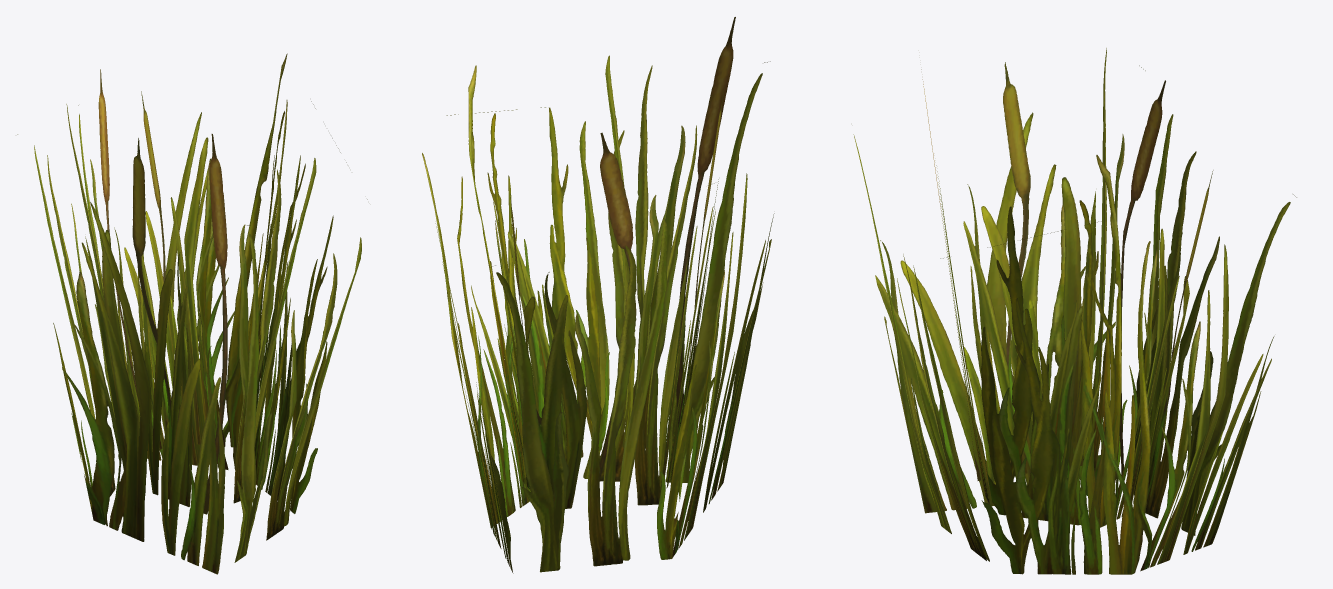
File: wetlandshrub06.obj
The picture shows the model from 3 angles, left to right: view 1: azimuth 30°, elevation 25°; view 2: azimuth 150°, elevation 25°; view 3: azimuth 270°, elevation 25°; orthographic projection. The views are drawn at different scales.
Parts seen in each view (by area): view 1: wetlandshrub06; view 2: wetlandshrub06; view 3: wetlandshrub06.
Part boxes in pixels (x1=…): wetlandshrub06: x1=17, y1=53, x2=367, y2=574; wetlandshrub06: x1=422, y1=17, x2=774, y2=573; wetlandshrub06: x1=853, y1=48, x2=1296, y2=574.
Size of the model in its own units: 2.11 by 3.17 by 2.98.
1 material, 1 textured.
